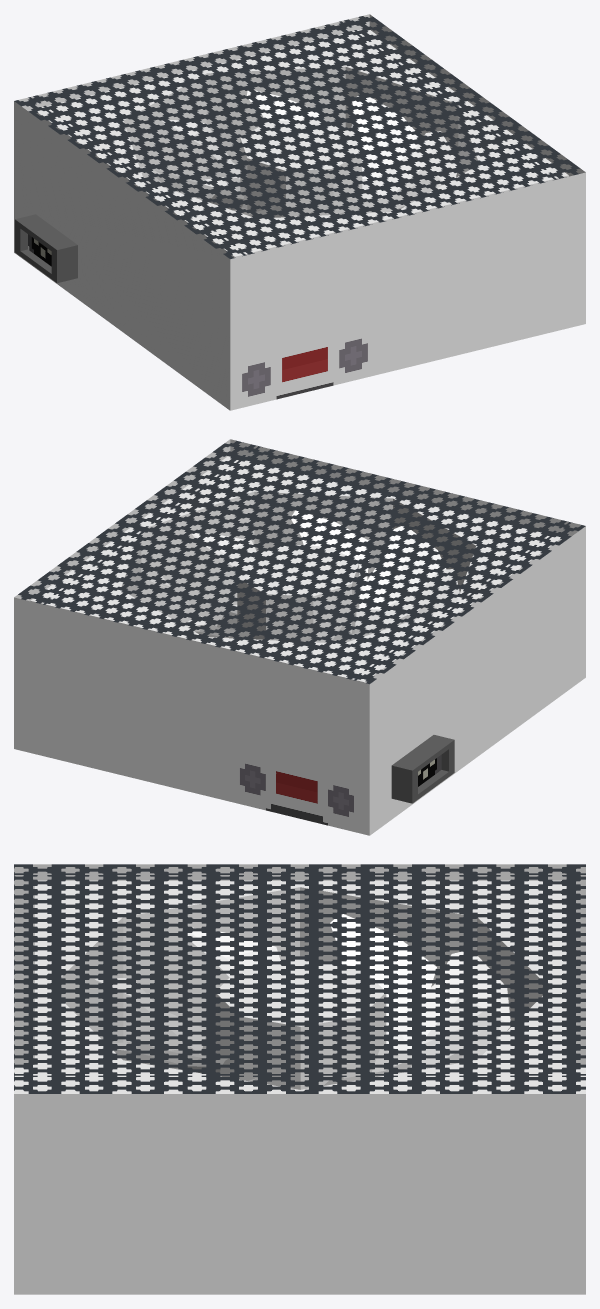
Rendered from Fonte_G.fbx.
3 renders of one model, top to bottom at view 1: azimuth 30°, elevation 25°; view 2: azimuth 150°, elevation 25°; view 3: azimuth 270°, elevation 25°, orthographic. The views are drawn at different scales.
Visible parts, largest first — view 1: Fonte.G; view 2: Fonte.G; view 3: Fonte.G.
Boxes of the visible parts, x1=… form: Fonte.G: x1=14, y1=14, x2=585, y2=410; Fonte.G: x1=14, y1=439, x2=585, y2=835; Fonte.G: x1=14, y1=864, x2=585, y2=1294.
Bounding box in the file's own units: 774 × 297 × 769.
